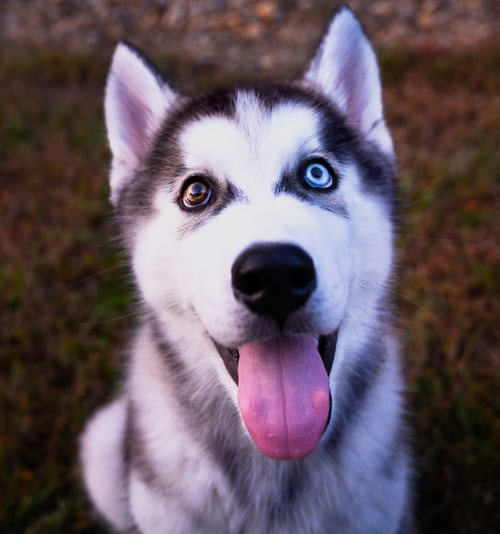husky: (86, 4, 407, 460)
